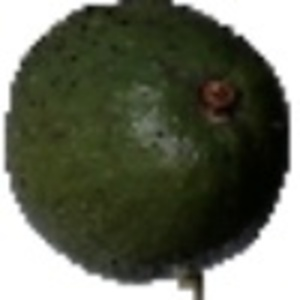abacate: (4, 2, 291, 278)
